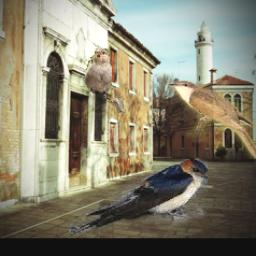Cuckoo: (167, 80, 256, 159), (95, 87, 125, 113)
Sparrow: (84, 46, 112, 96)
Swallow: (70, 159, 209, 235)
